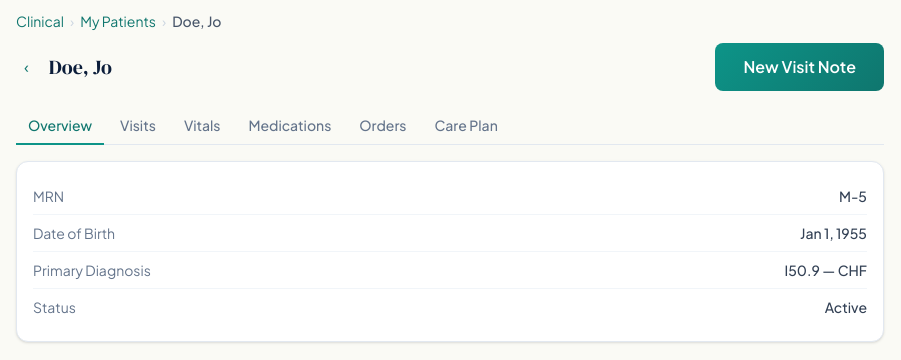
Test: ClinicianPatientDetail (clinical chart) › loads the Medications tab on demand
Click the tab with test id "chart-tab-medications" at (290, 126), box [236,107,343,145]
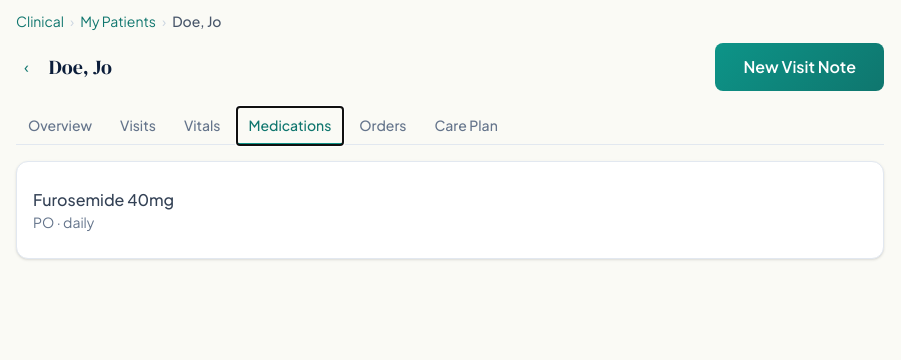
Now the list with test id "chart-medications" shows "Furosemide 40mg", box [33,189,174,210]
